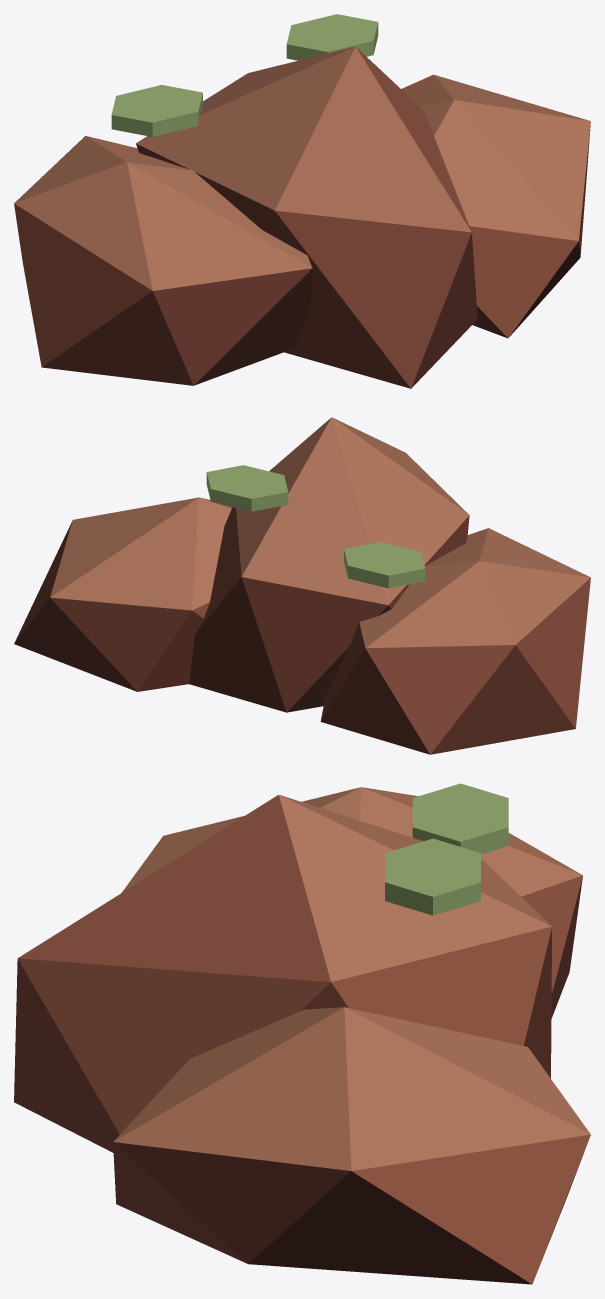
Rendered from rock_ledge.fbx.
The picture shows the model from 3 angles, top to bottom: view 1: azimuth 30°, elevation 25°; view 2: azimuth 150°, elevation 25°; view 3: azimuth 270°, elevation 25°; orthographic projection. The views are drawn at different scales.
Visible parts, largest first — view 1: rock_ledge; view 2: rock_ledge; view 3: rock_ledge.
Part boxes in pixels (left/top/right/bottom): rock_ledge: left=14, top=14, right=590, bottom=388; rock_ledge: left=14, top=417, right=590, bottom=754; rock_ledge: left=14, top=783, right=590, bottom=1284.
Size of the model in its own units: 0.6092 by 0.3051 by 0.4173.
